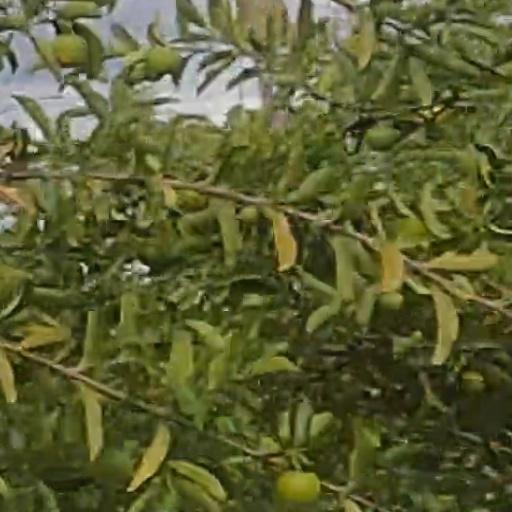acerola: (276, 471, 317, 507), (53, 31, 89, 65)
